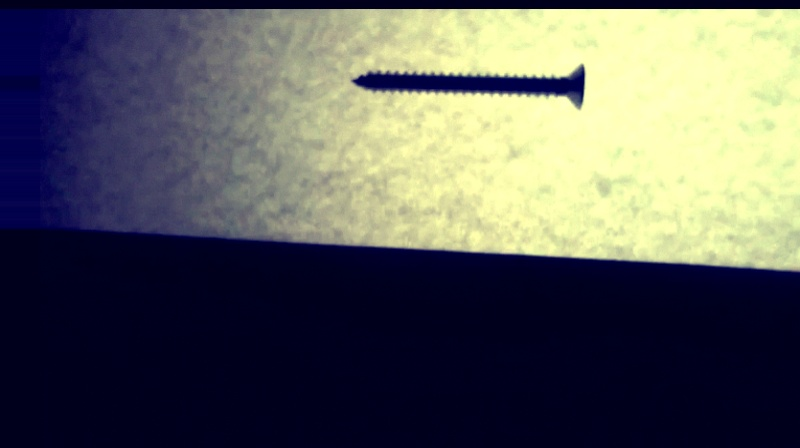S002: (348, 55, 589, 112)
